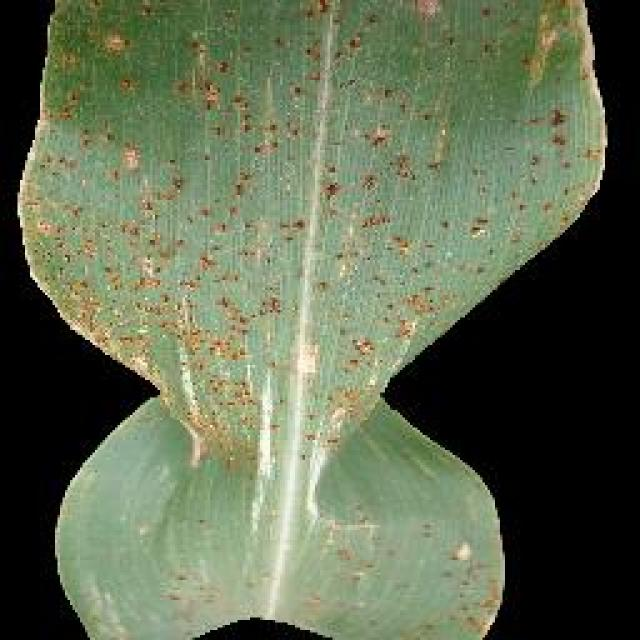Corn Common Rust: (67, 36, 490, 426)
